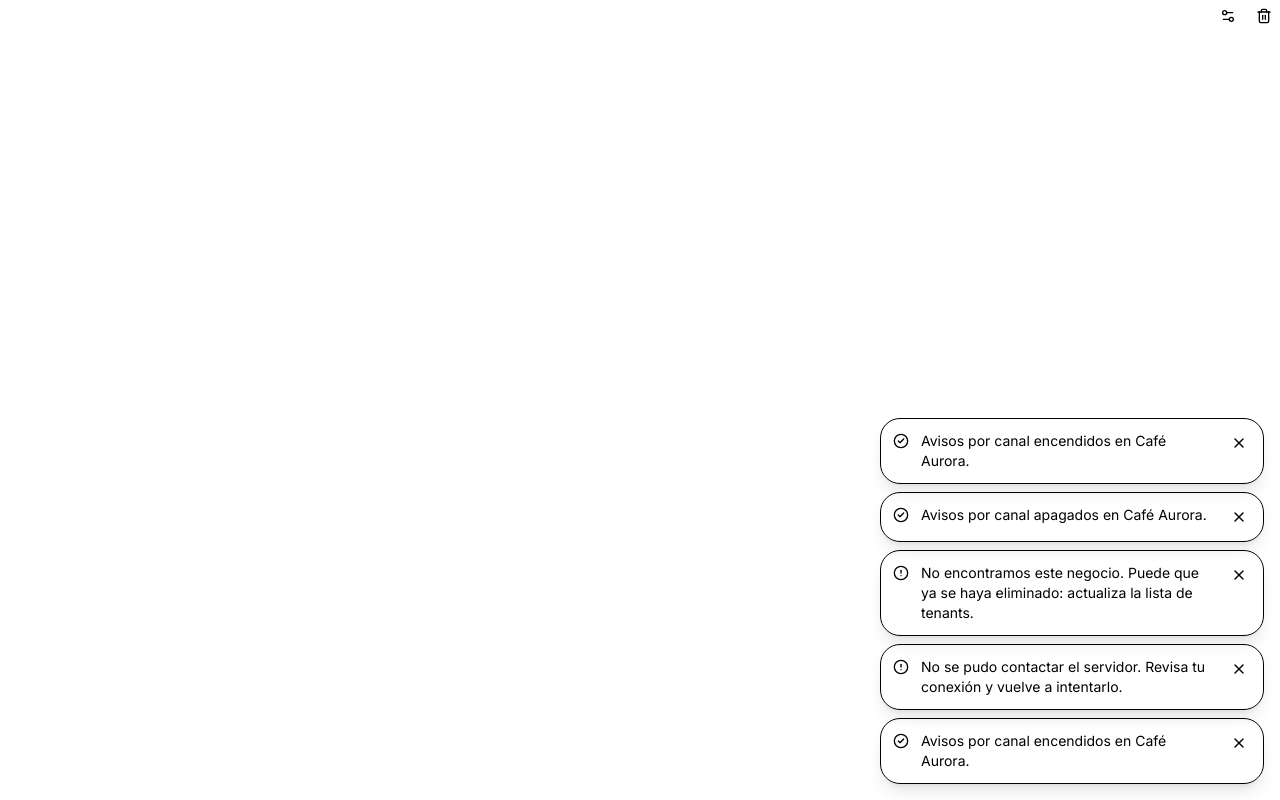
el interruptor solo lo ve el master en las acciones del negocio › los demás roles no lo ven ni se consulta la bandera
Click the button named "Gestionar Café Aurora": coordinates (1228, 16) [1212,0,1244,32]
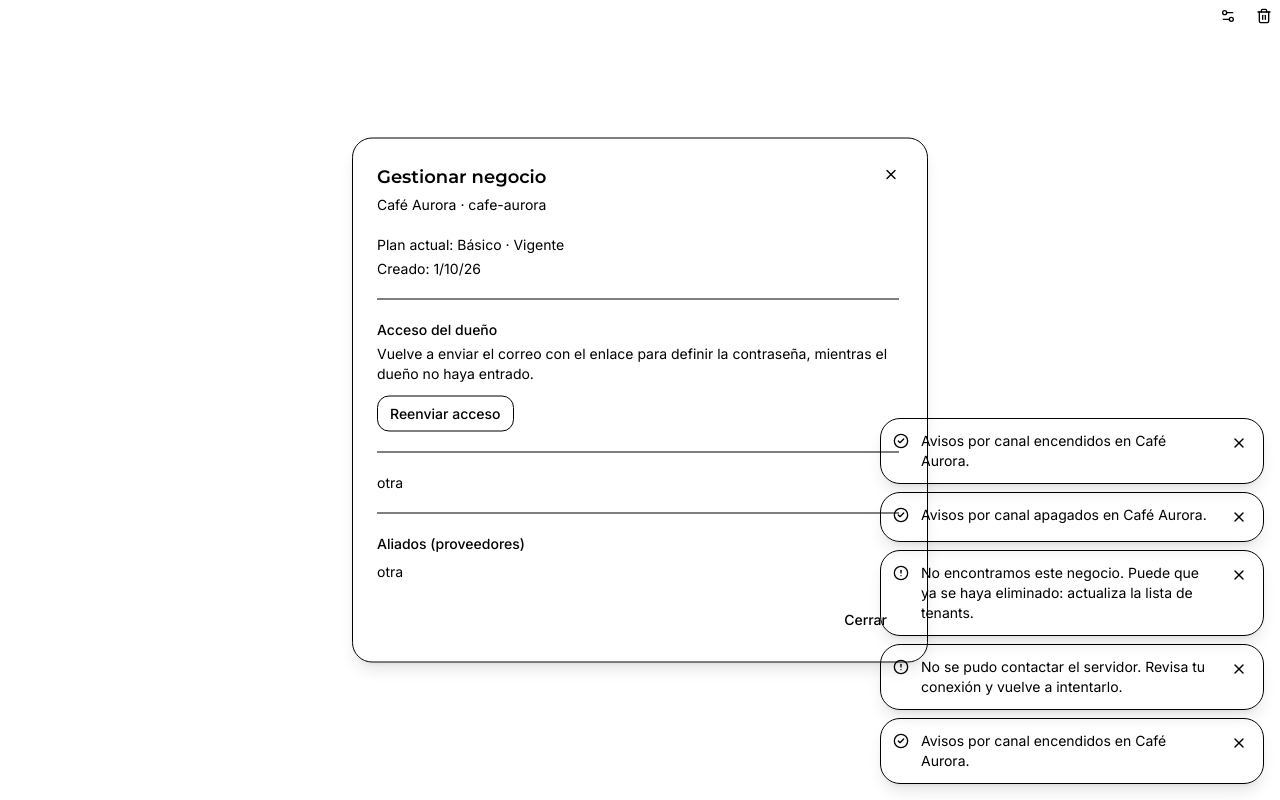
Now the heading "Gestionar negocio" is shown, box [377,162,546,190]
